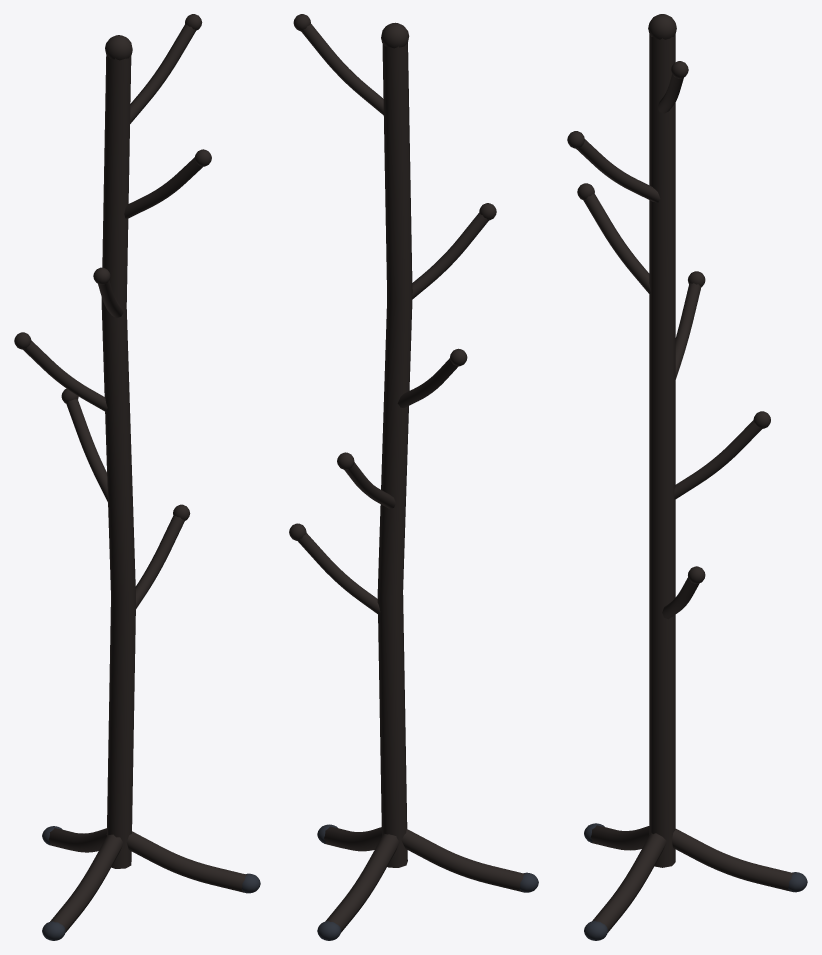
The model's file is cabideiro_galho.glb.
The picture shows the model from 3 angles, left to right: view 1: azimuth 30°, elevation 25°; view 2: azimuth 150°, elevation 25°; view 3: azimuth 270°, elevation 25°; orthographic projection. The views are drawn at different scales.
Parts seen in each view (by area): view 1: cabideiro_galho; view 2: cabideiro_galho; view 3: cabideiro_galho.
Part boxes in pixels (left/top/right/bottom): cabideiro_galho: left=14, top=14, right=260, bottom=940; cabideiro_galho: left=289, top=14, right=538, bottom=940; cabideiro_galho: left=567, top=14, right=807, bottom=940.
Size of the model in its own units: 0.4597 by 1.75 by 0.4339.
Materials: 1 (1 with a texture image).
